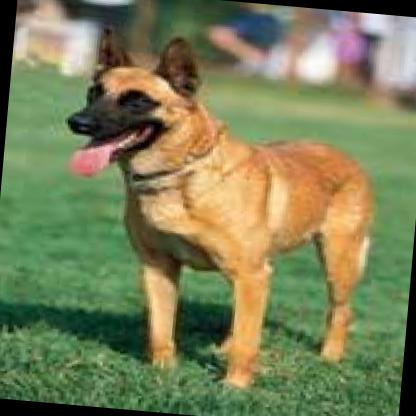malinois: (40, 15, 387, 400)
